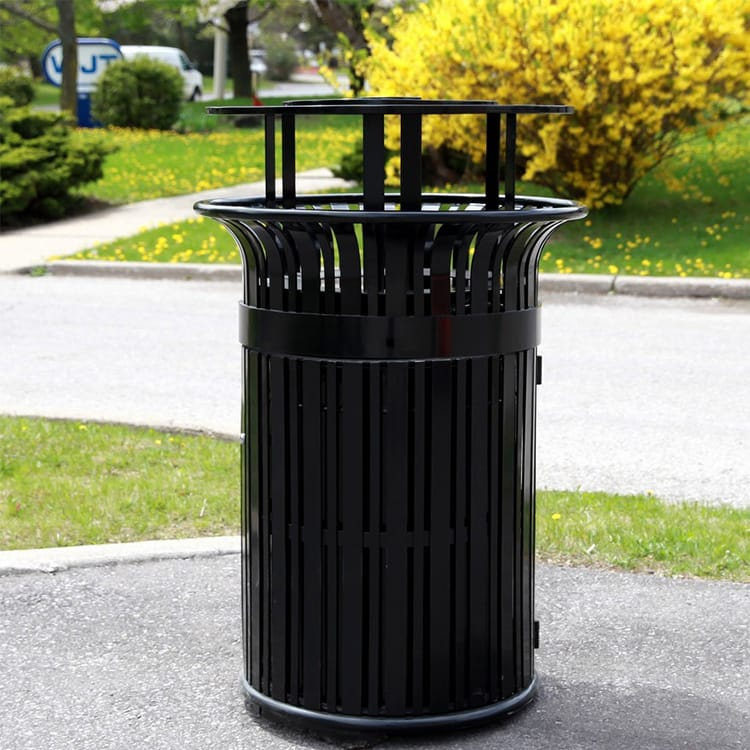TrashBin: (190, 80, 566, 743)
